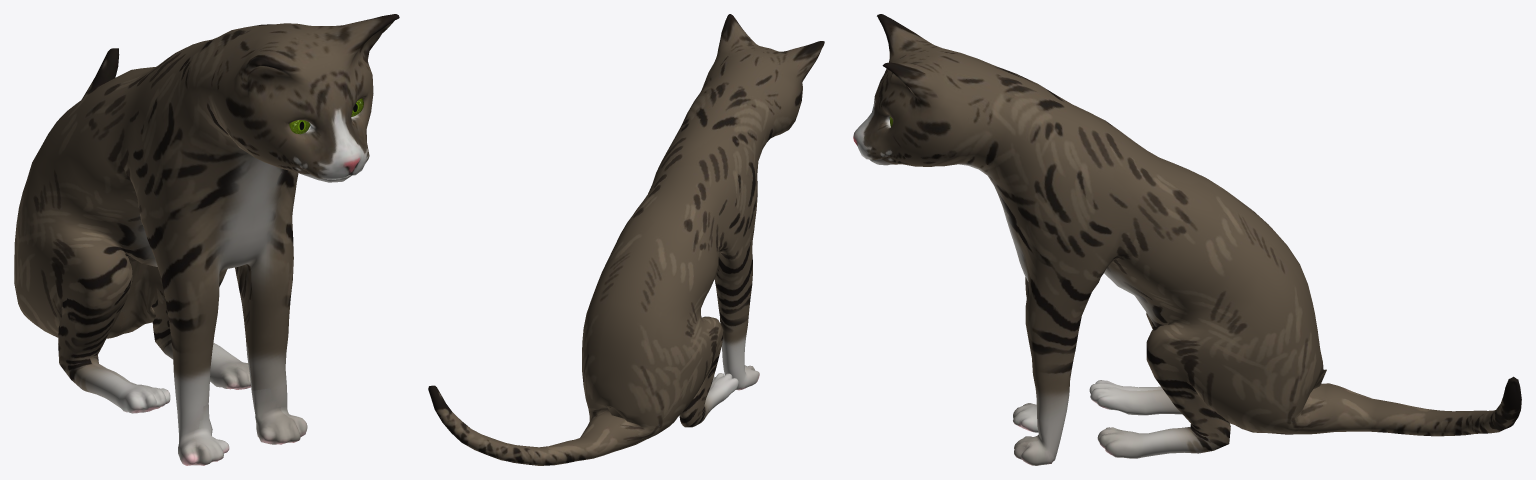
The model's file is Gato-final-lcdll.fbx.
3 renders of one model, left to right at view 1: azimuth 30°, elevation 25°; view 2: azimuth 150°, elevation 25°; view 3: azimuth 270°, elevation 25°, orthographic. The views are drawn at different scales.
Visible parts, largest first — view 1: Gato; view 2: Gato; view 3: Gato.
Part boxes in pixels (x1=…): Gato: x1=14, y1=14, x2=399, y2=465; Gato: x1=428, y1=14, x2=824, y2=465; Gato: x1=853, y1=14, x2=1521, y2=465.
Bounding box in the file's own units: 5443 × 9950 × 14672.
Materials: 2 (2 with a texture image).
